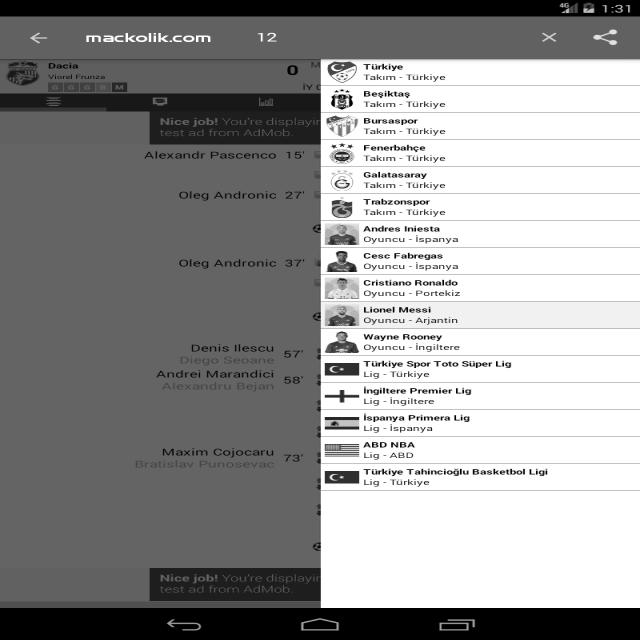ImageButton: (588, 23, 630, 53), (534, 26, 570, 52), (23, 25, 57, 48)
ImageView: (320, 58, 355, 490), (4, 61, 41, 87), (54, 83, 135, 94)
TextView: (154, 339, 309, 393), (154, 116, 311, 140), (174, 181, 308, 206), (157, 576, 302, 596), (79, 26, 222, 46), (362, 302, 465, 328), (362, 223, 463, 247), (363, 438, 421, 462), (364, 384, 478, 396), (360, 59, 412, 83), (364, 88, 414, 110)
